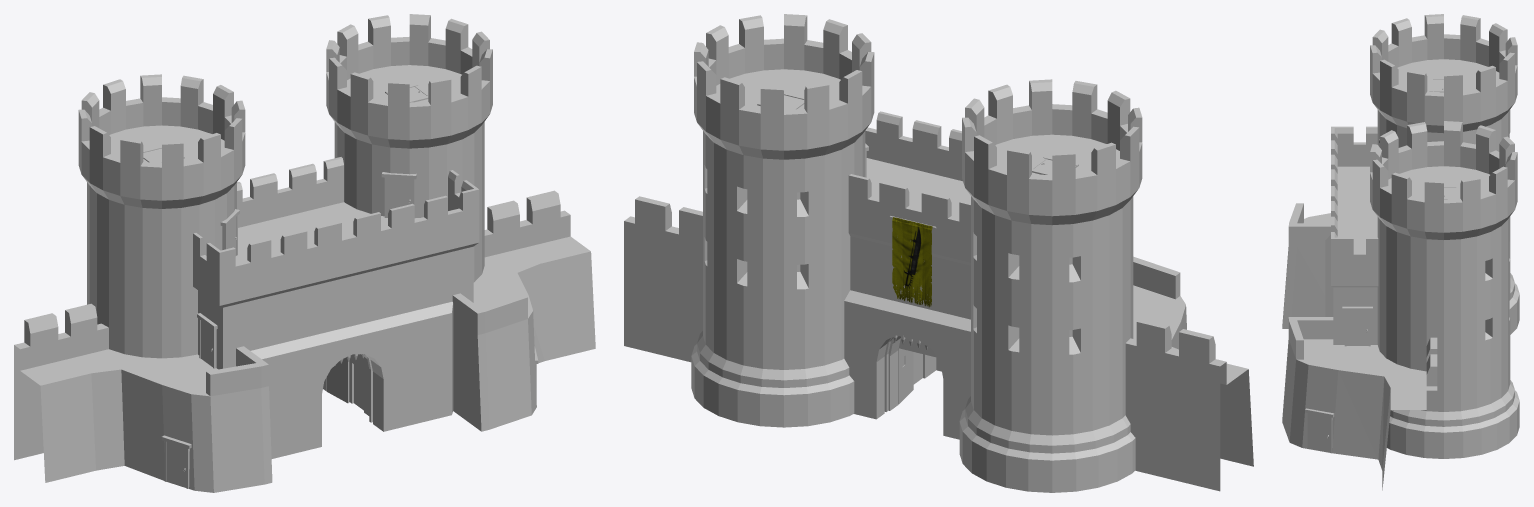
File: gatehouse.dae
The picture shows the model from 3 angles, left to right: view 1: azimuth 30°, elevation 25°; view 2: azimuth 150°, elevation 25°; view 3: azimuth 270°, elevation 25°; orthographic projection. The views are drawn at different scales.
Parts seen in each view (by area): view 1: GateHouse, DoorsLevel3, DoorsLevel1, DoorsLevel2, GateLeft; view 2: GateHouse, Flag, GateLeft; view 3: GateHouse, DoorsLevel2, DoorsLevel1, Trapdoors.
Boxes of the visible parts, box(x1,y1,x2,y2) form: GateHouse: box(14, 14, 595, 492); DoorsLevel3: box(220, 172, 416, 255); DoorsLevel1: box(161, 346, 538, 488); DoorsLevel2: box(197, 313, 217, 368); GateLeft: box(326, 357, 349, 403); GateHouse: box(624, 14, 1253, 492); Flag: box(892, 217, 932, 307); GateLeft: box(898, 348, 913, 404); GateHouse: box(1282, 14, 1519, 490); DoorsLevel2: box(1342, 306, 1372, 346); DoorsLevel1: box(1305, 408, 1334, 453); Trapdoors: box(1429, 78, 1459, 199).
Bounding box in the file's own units: 29.08 × 12.26 × 15.7.
